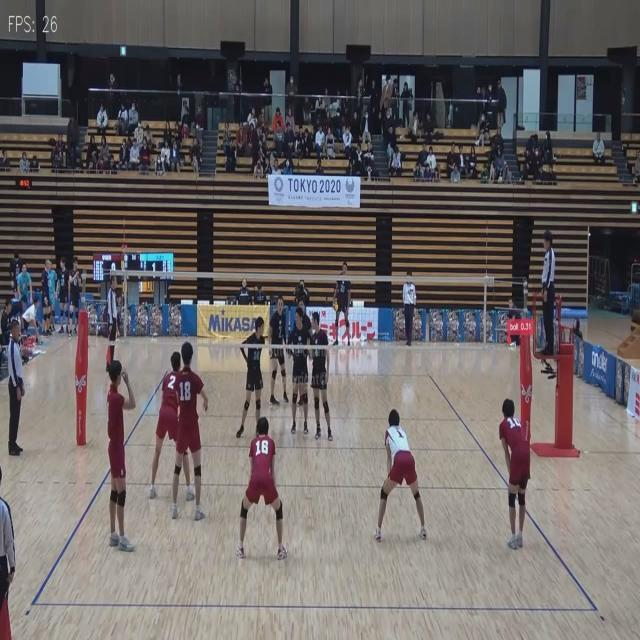volleyball: (332, 303, 338, 311)
